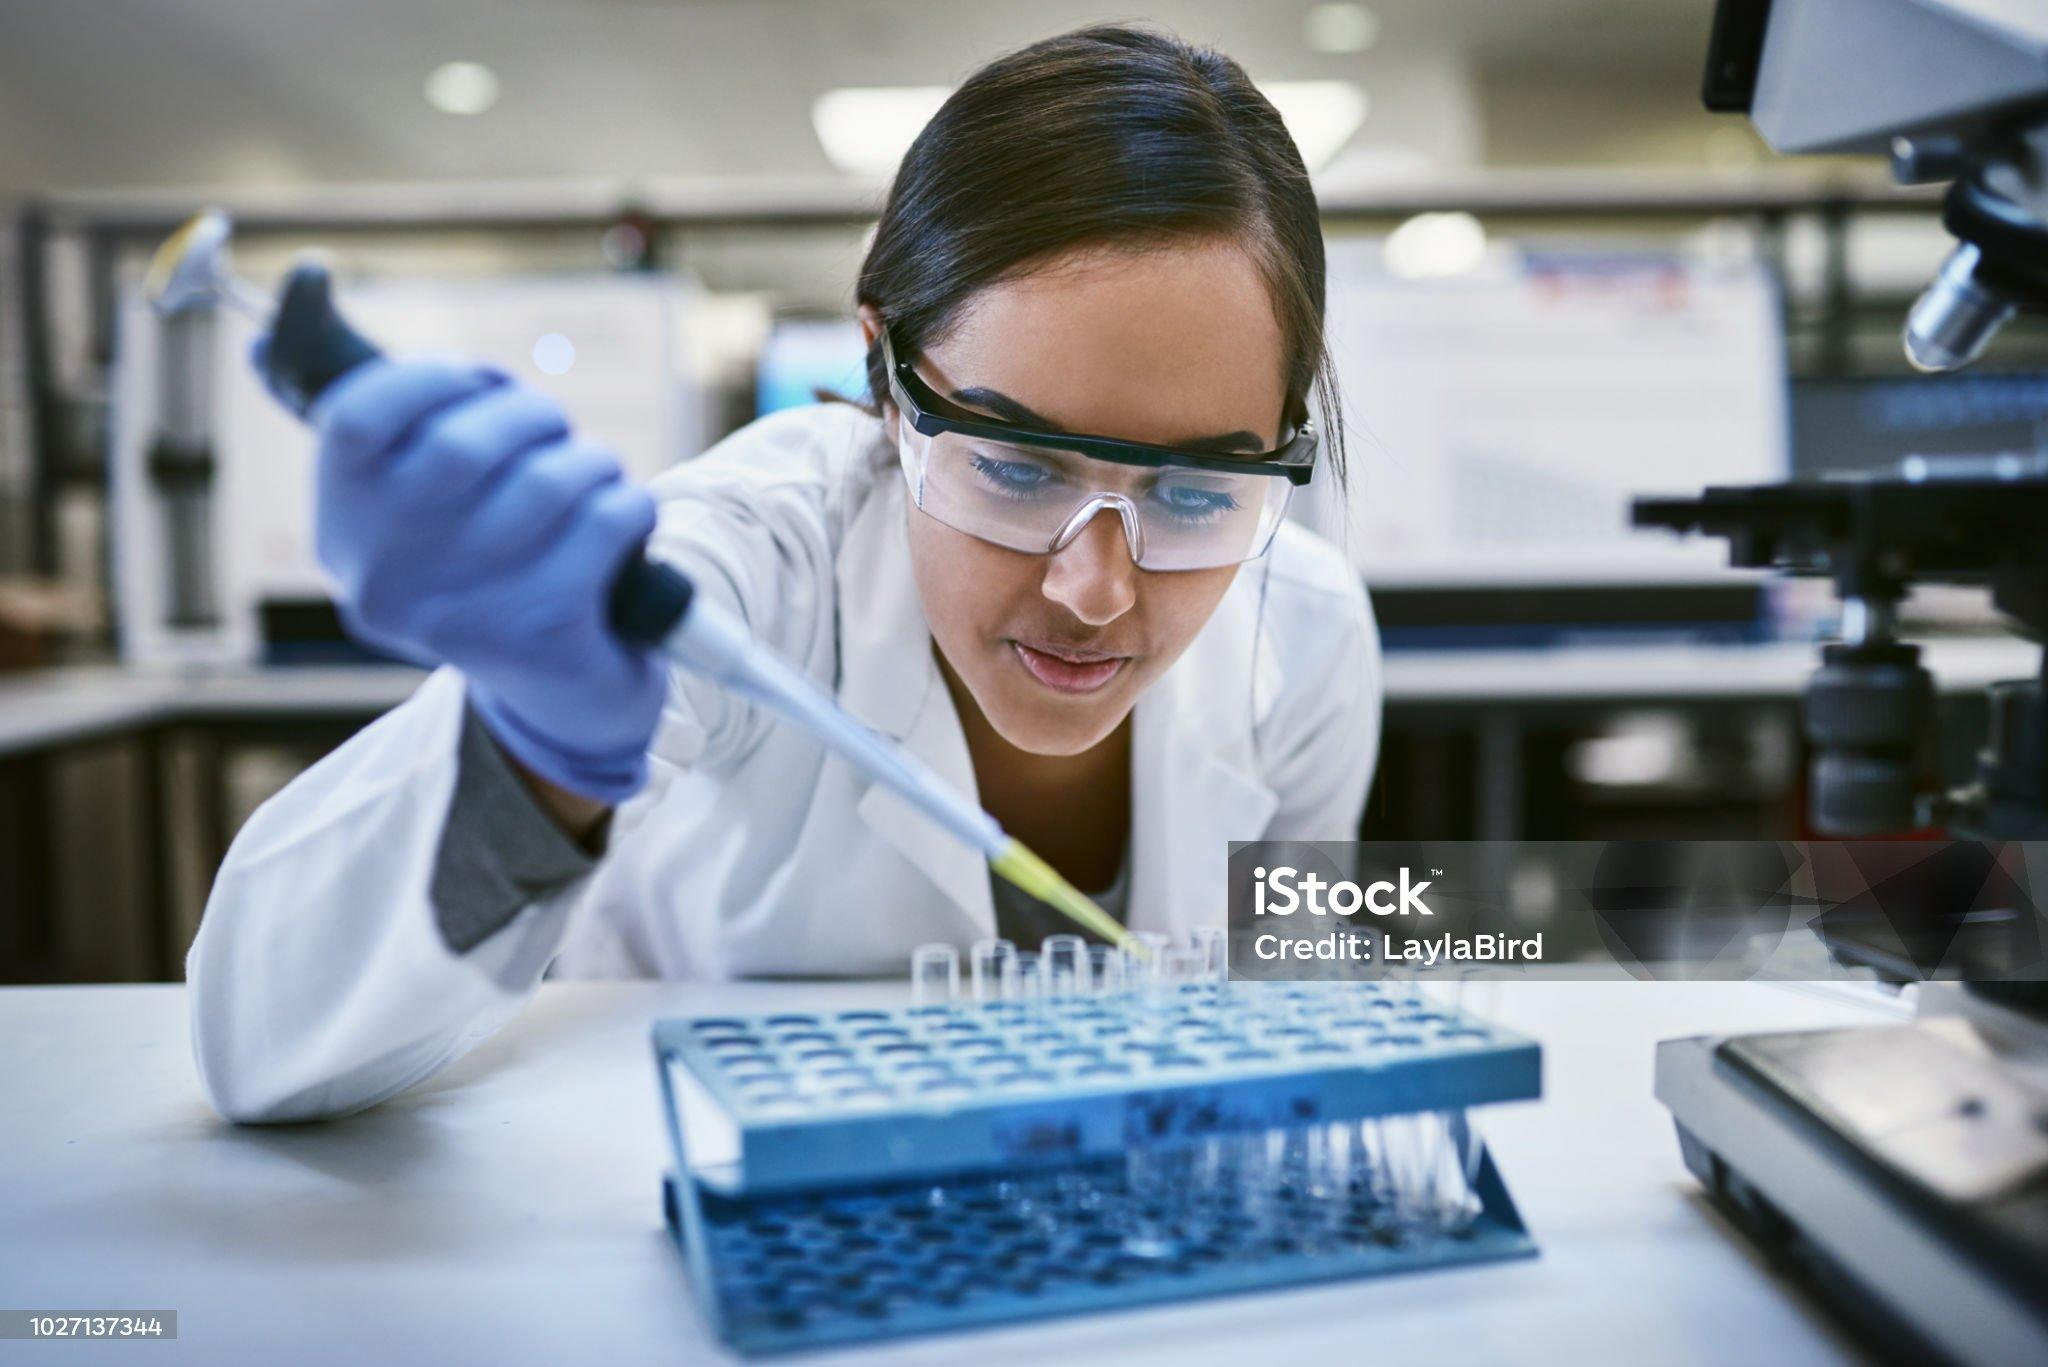Goggles: (868, 330, 1318, 571)
